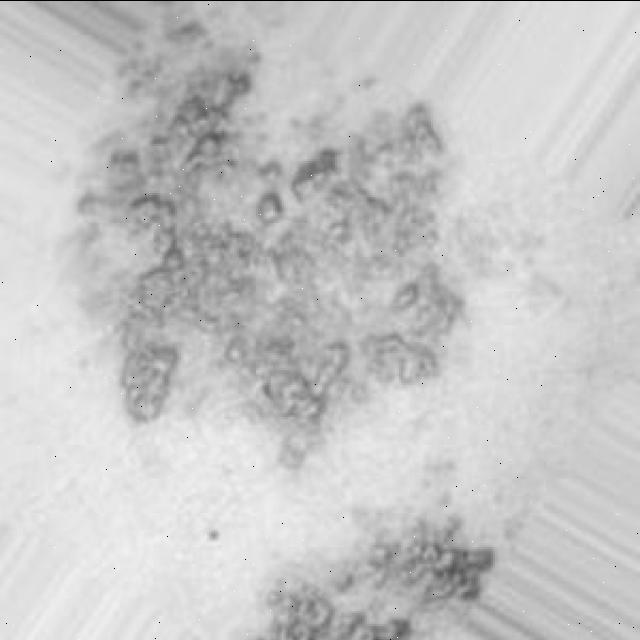Shingles: (76, 75, 465, 471), (246, 505, 497, 640)
